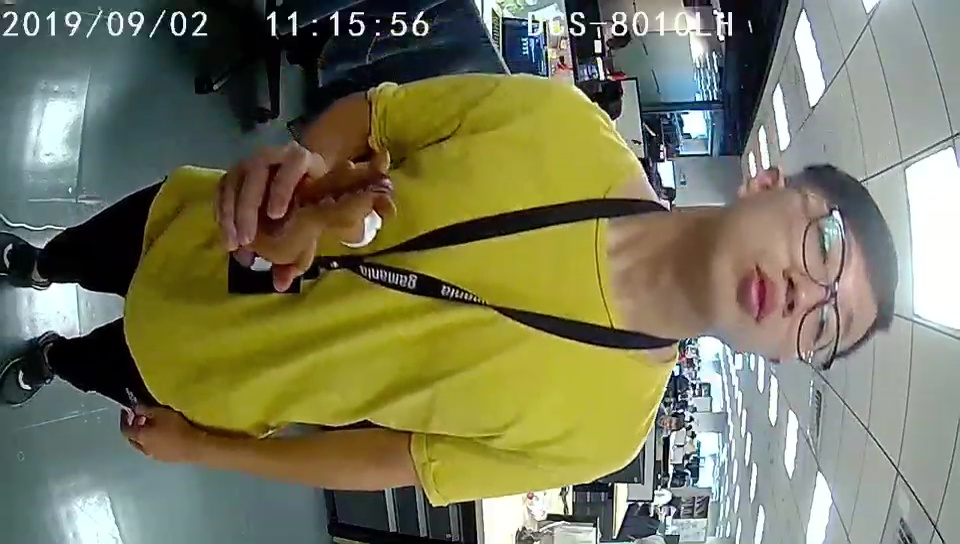horse: (263, 163, 396, 267)
